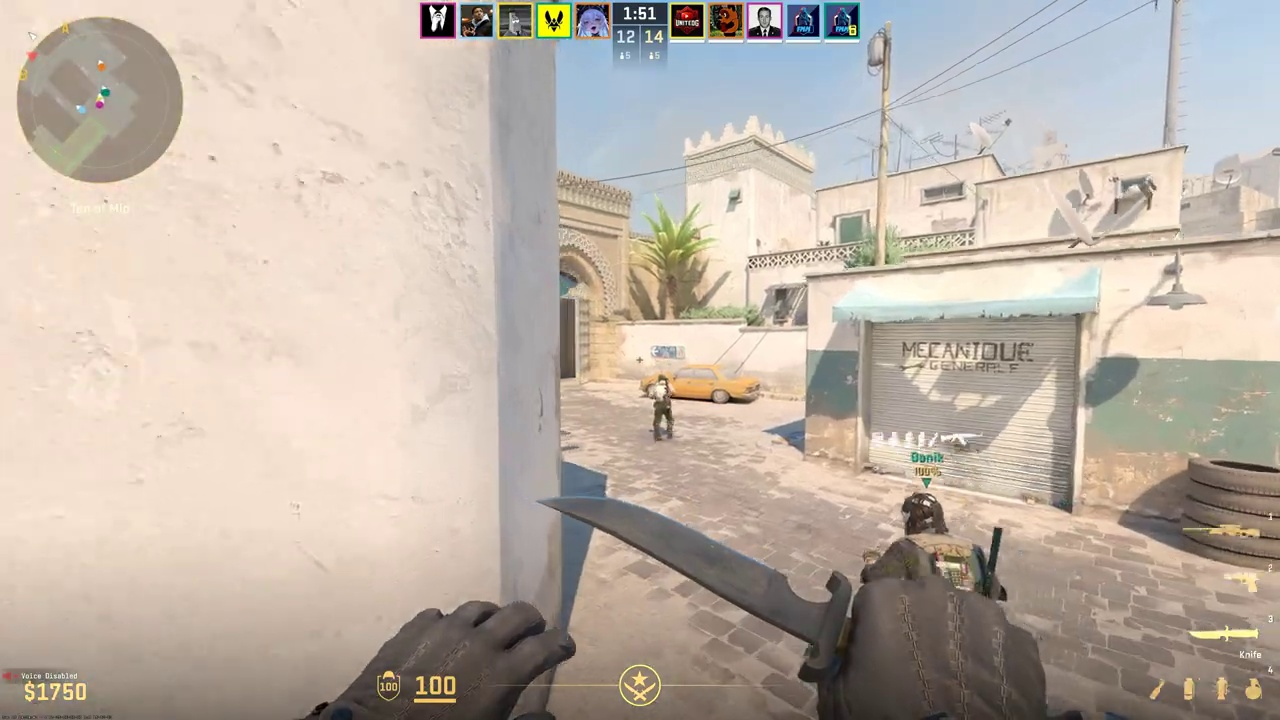Terrorist: (871, 492, 988, 598), (651, 374, 675, 442)
